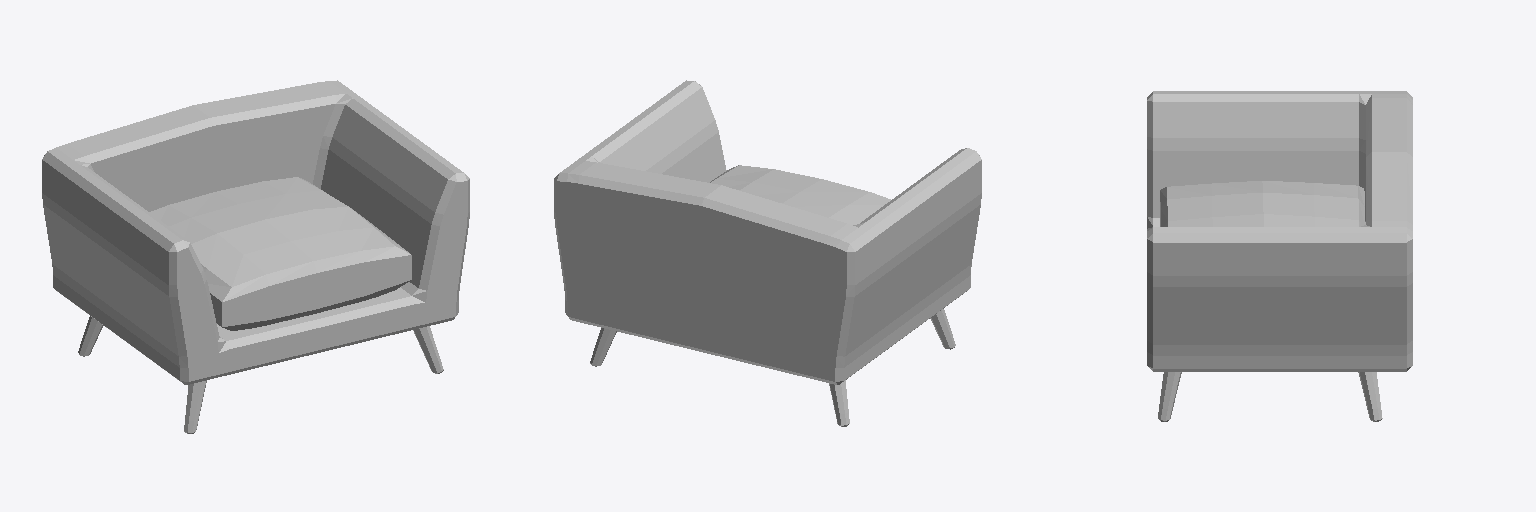
Rendered from Couch_Small1.obj.
3 renders of one model, left to right at view 1: azimuth 30°, elevation 25°; view 2: azimuth 150°, elevation 25°; view 3: azimuth 270°, elevation 25°, orthographic.
Parts seen in each view (by area): view 1: Couch_Small1; view 2: Couch_Small1; view 3: Couch_Small1.
Part boxes in pixels (x1,y1,x2,y2): Couch_Small1: (42,80,469,433); Couch_Small1: (554,80,981,426); Couch_Small1: (1147,91,1412,421).
Bounding box in the file's own units: 2.89 × 1.91 × 2.2.